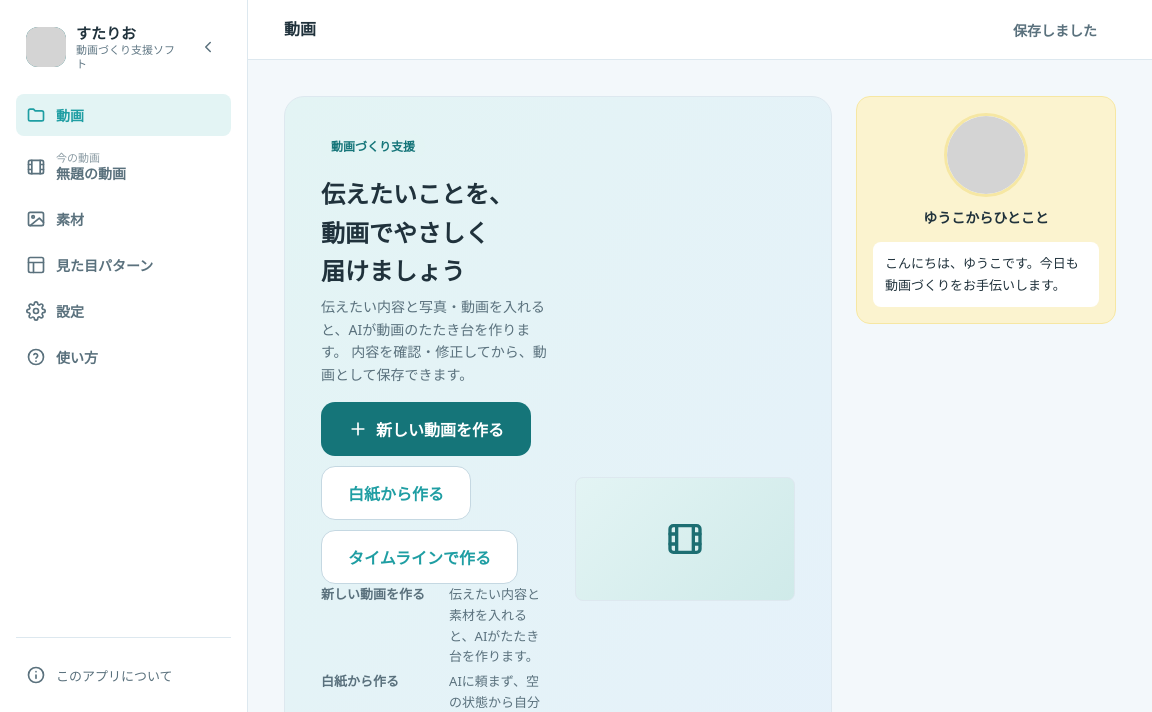
Test: App の遷移が離れる前の関門を通る（#719 統合） › 関門が許せば、これまでどおり移れる
This screenshot has width=1152, height=712.
Click the button "素材". click: {"x": 124, "y": 218}
box: [16,198,231,240]
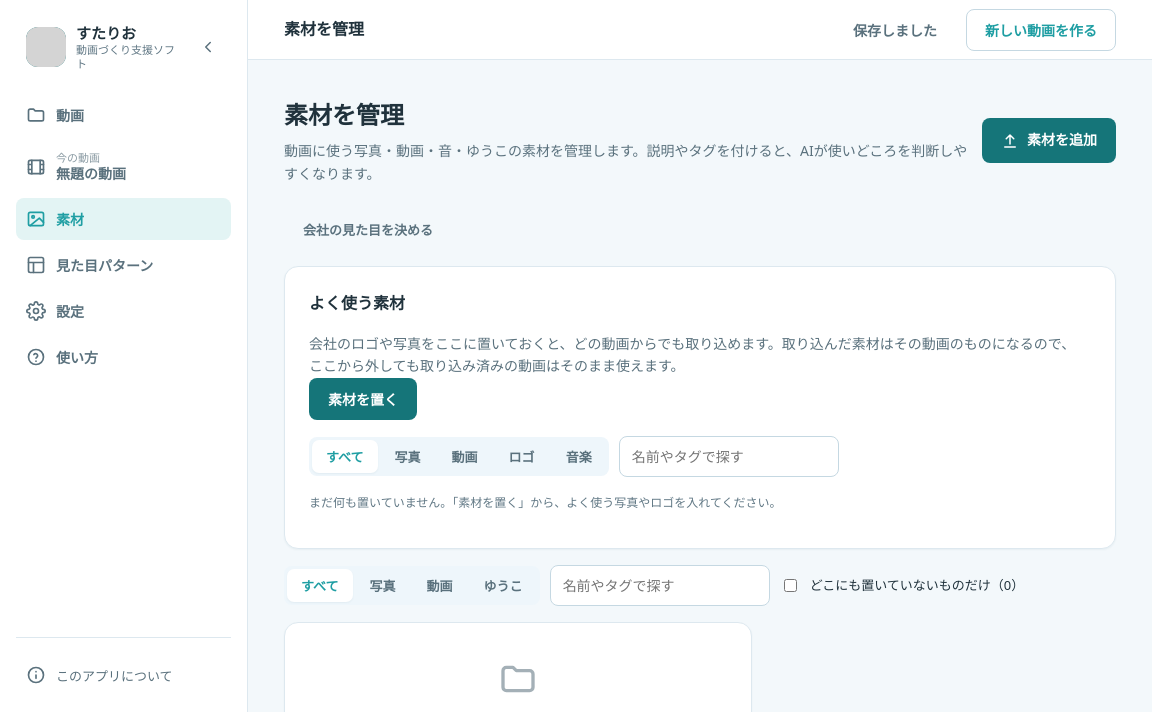
Expected: the text "素材を管理" is shown, [284,17,364,42]
